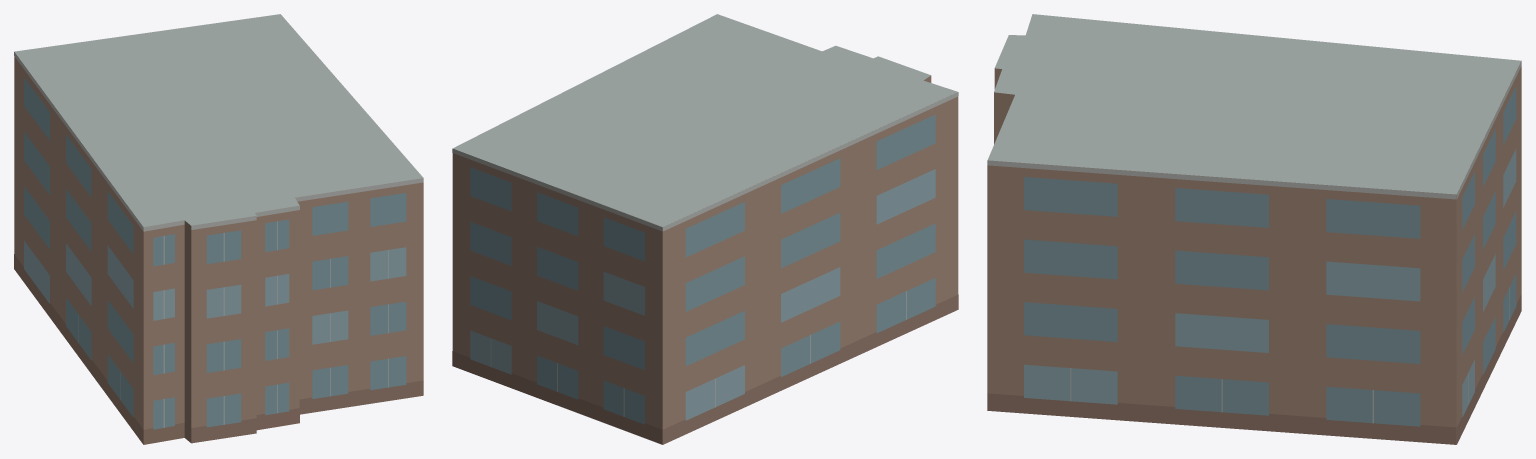
File: survey-upis-32585706.glb
3 views of the same model, side by side, from view 1: azimuth 30°, elevation 25°; view 2: azimuth 150°, elevation 25°; view 3: azimuth 270°, elevation 25° (orthographic). The views are drawn at different scales.
Parts seen in each view (by area): view 1: survey-upis-32585706.tmp; view 2: survey-upis-32585706.tmp; view 3: survey-upis-32585706.tmp.
Part boxes in pixels (box(x1,y1,x2,y2)): survey-upis-32585706.tmp: box(14, 14, 423, 444); survey-upis-32585706.tmp: box(452, 14, 958, 444); survey-upis-32585706.tmp: box(987, 14, 1521, 444).
Bounding box in the file's own units: 18.87 × 12.2 × 23.59.
